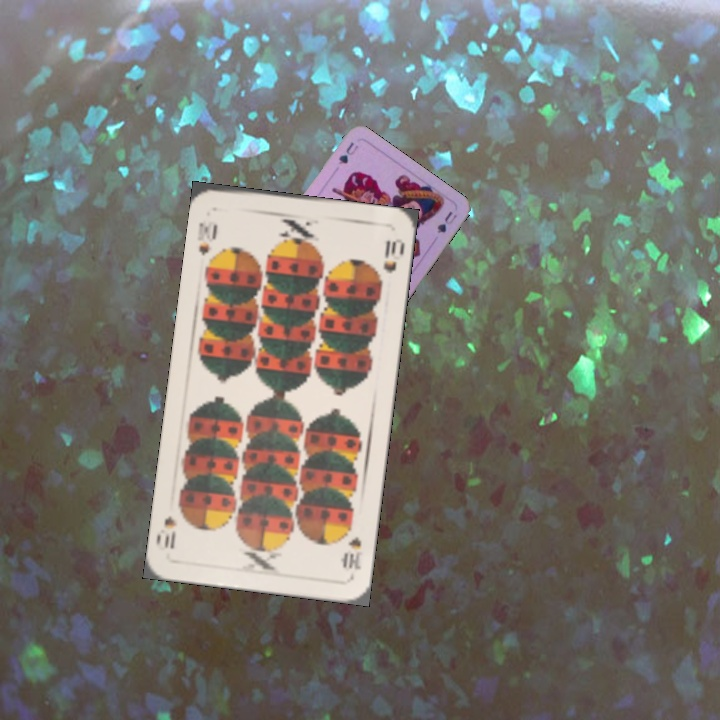GU: (334, 138, 361, 167)
S10: (338, 532, 365, 573), (193, 218, 220, 259)
